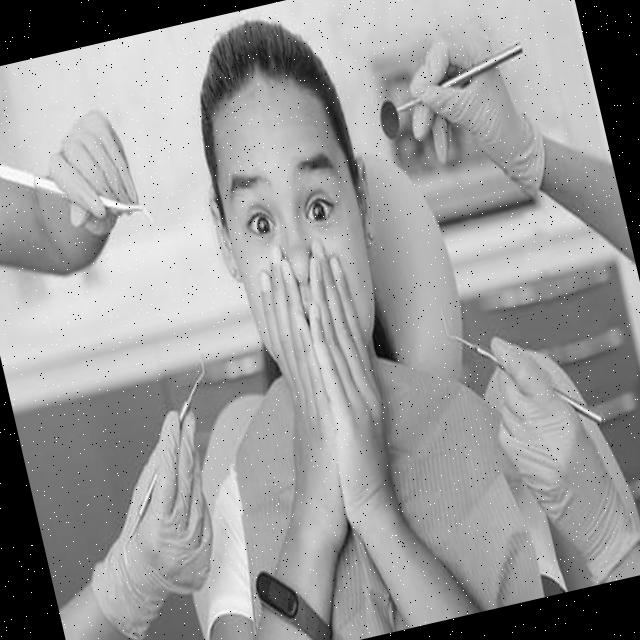Fear: (202, 65, 386, 368)
